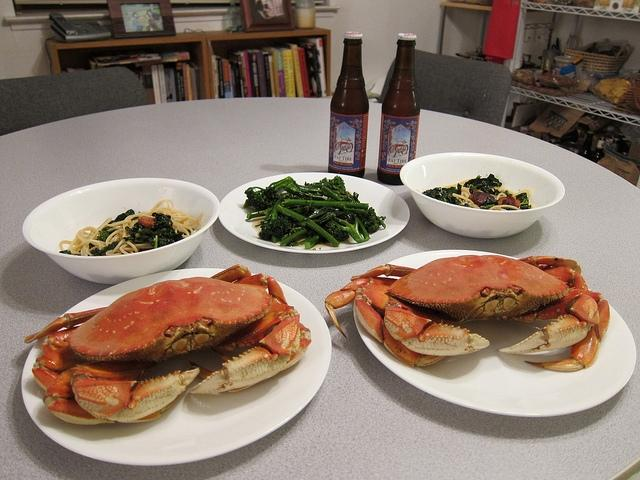broccoli: (278, 205, 340, 247), (244, 176, 294, 211), (258, 194, 292, 240), (281, 200, 369, 214), (330, 216, 364, 244), (304, 176, 346, 192), (358, 207, 380, 234), (355, 216, 370, 242), (322, 185, 344, 201), (290, 206, 318, 217), (312, 212, 336, 224), (286, 226, 308, 236), (300, 187, 324, 193), (376, 215, 386, 228), (317, 192, 323, 196)
